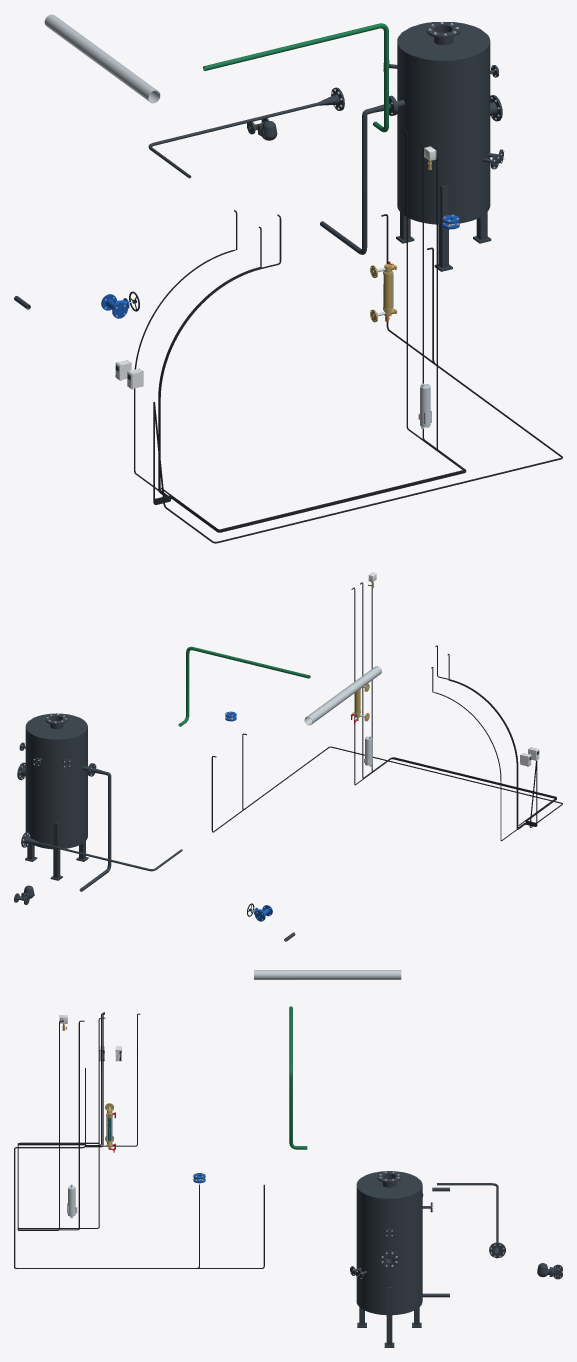
3 views of the same model, one above another, from view 1: azimuth 30°, elevation 25°; view 2: azimuth 150°, elevation 25°; view 3: azimuth 270°, elevation 25° (orthographic). The views are drawn at different scales.
Parts seen in each view (by area): view 1: separator_bdv60_5 / dark, cables / black, to_direct / green, steam_delivery / steel, bottom_to_bdv / dark, tds_to_fv / dark, sight_glasses_1 / sight_glasses_1_0.npz; view 2: separator_bdv60_5 / dark, cables / black, to_direct / green, steam_delivery / steel, bottom_to_bdv / dark, tds_to_fv / dark; view 3: separator_bdv60_5 / dark, cables / black, steam_delivery / steel, to_direct / green, tds_to_fv / dark.
Boxes of the visible parts, box(x1,y1,x2,y2) form: separator_bdv60_5 / dark: box(383, 22, 503, 271); cables / black: box(134, 128, 562, 543); to_direct / green: box(203, 23, 388, 132); steam_delivery / steel: box(44, 14, 132, 83); bottom_to_bdv / dark: box(320, 96, 396, 254); tds_to_fv / dark: box(148, 87, 344, 178); sight_glasses_1 / sight_glasses_1_0.npz: box(370, 261, 397, 322); separator_bdv60_5 / dark: box(17, 713, 92, 880); cables / black: box(211, 582, 562, 841); to_direct / green: box(178, 646, 310, 726); steam_delivery / steel: box(304, 678, 365, 725); bottom_to_bdv / dark: box(79, 763, 111, 891); tds_to_fv / dark: box(21, 832, 182, 871); separator_bdv60_5 / dark: box(350, 1171, 432, 1347); cables / black: box(14, 1012, 264, 1268); steam_delivery / steel: box(289, 970, 401, 979); to_direct / green: box(289, 1006, 307, 1149); tds_to_fv / dark: box(437, 1183, 505, 1258).
Bounding box in the file's own units: 5.41 × 2.97 × 6.35.
